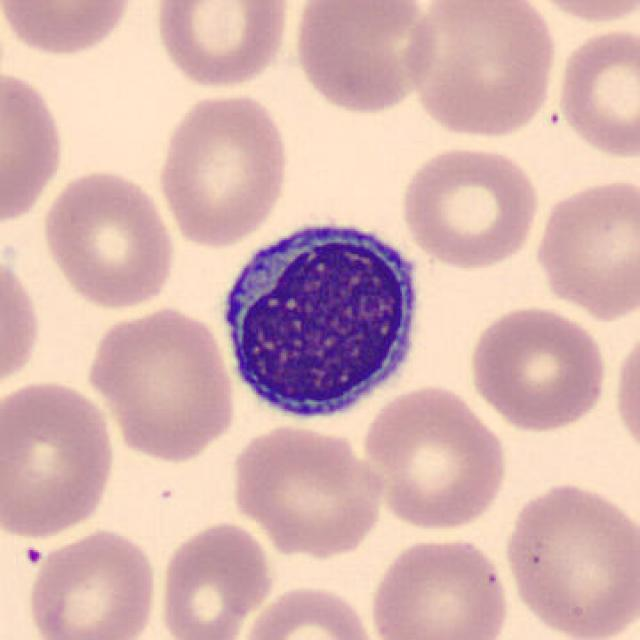Lymphocyte: (212, 206, 428, 430)
RBC: (84, 302, 238, 464), (359, 381, 512, 532), (153, 88, 293, 249), (500, 478, 638, 640), (404, 0, 560, 141), (226, 422, 386, 558), (38, 166, 180, 312), (0, 376, 119, 543), (464, 302, 610, 434), (397, 141, 542, 272), (288, 0, 442, 116), (530, 172, 638, 322), (366, 532, 514, 640), (23, 525, 160, 640), (154, 518, 276, 640), (150, 0, 294, 92), (551, 23, 640, 164), (0, 61, 69, 229), (237, 582, 381, 640), (0, 0, 139, 60), (0, 248, 44, 396), (610, 321, 640, 469), (524, 0, 638, 26)
